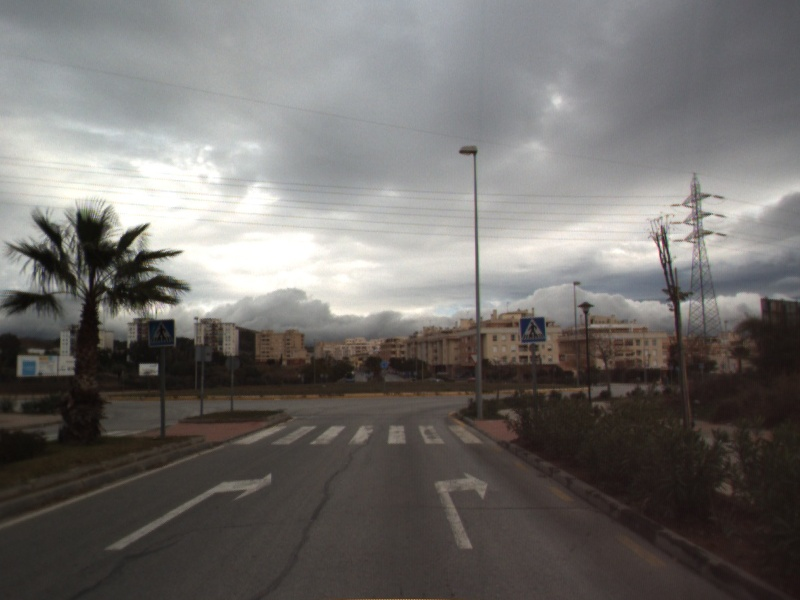RIGHT: (102, 471, 273, 553), (432, 469, 490, 551)
